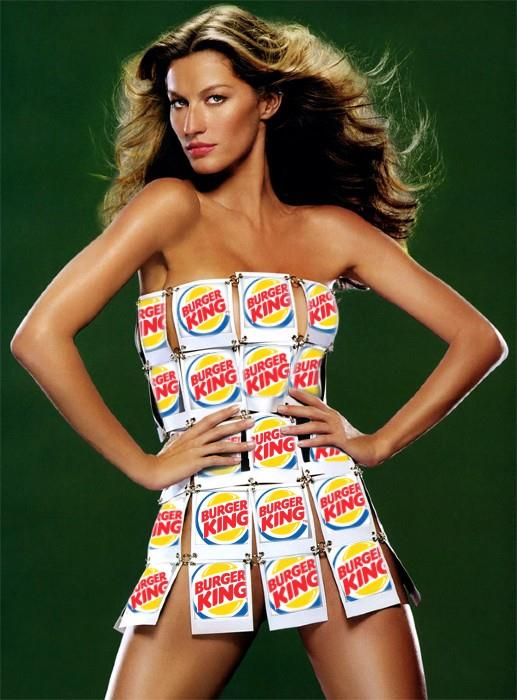Burger_King: (138, 281, 395, 640)
